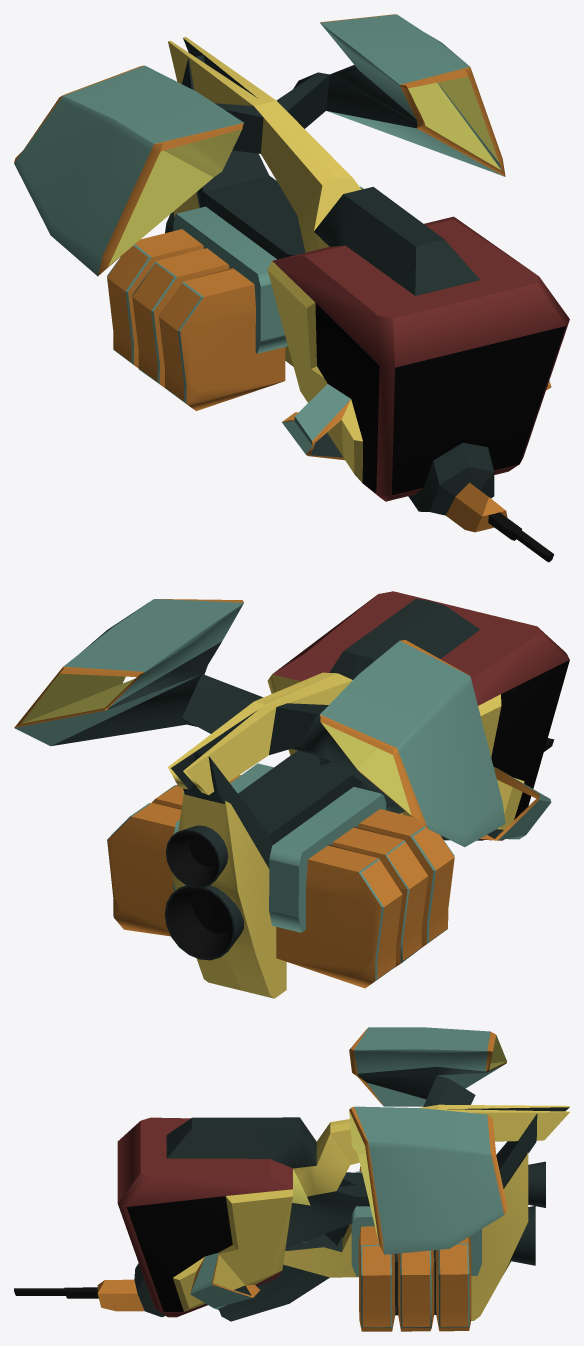
The model's file is Sting.fbx.
The picture shows the model from 3 angles, top to bottom: view 1: azimuth 30°, elevation 25°; view 2: azimuth 150°, elevation 25°; view 3: azimuth 270°, elevation 25°; orthographic projection. The views are drawn at different scales.
Visible parts, largest first — view 1: pPipe3; view 2: pPipe3; view 3: pPipe3.
Part boxes in pixels (box(x1,y1,x2,y2)): pPipe3: box(14, 14, 569, 562); pPipe3: box(14, 591, 569, 998); pPipe3: box(14, 1027, 569, 1331).
Bounding box in the file's own units: 14.17 × 10.16 × 22.13.
